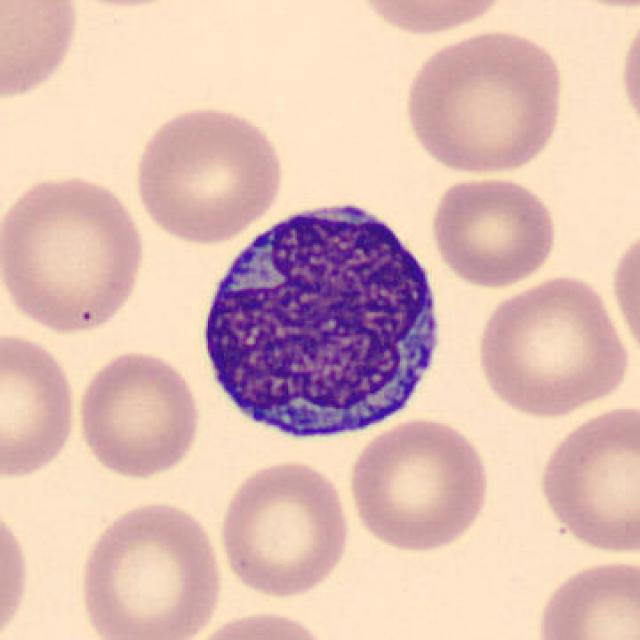Monocyte: (191, 185, 454, 453)
RBC: (398, 27, 569, 176), (0, 169, 149, 336), (471, 272, 633, 419), (130, 101, 288, 245), (74, 497, 226, 640), (345, 414, 494, 556), (215, 456, 354, 600), (73, 346, 204, 482), (534, 400, 638, 557), (425, 171, 560, 289), (0, 328, 80, 481), (532, 555, 638, 640), (0, 0, 84, 106), (347, 0, 517, 39), (185, 608, 338, 640), (0, 497, 34, 640), (608, 222, 640, 362), (615, 5, 640, 143), (49, 0, 199, 12)
